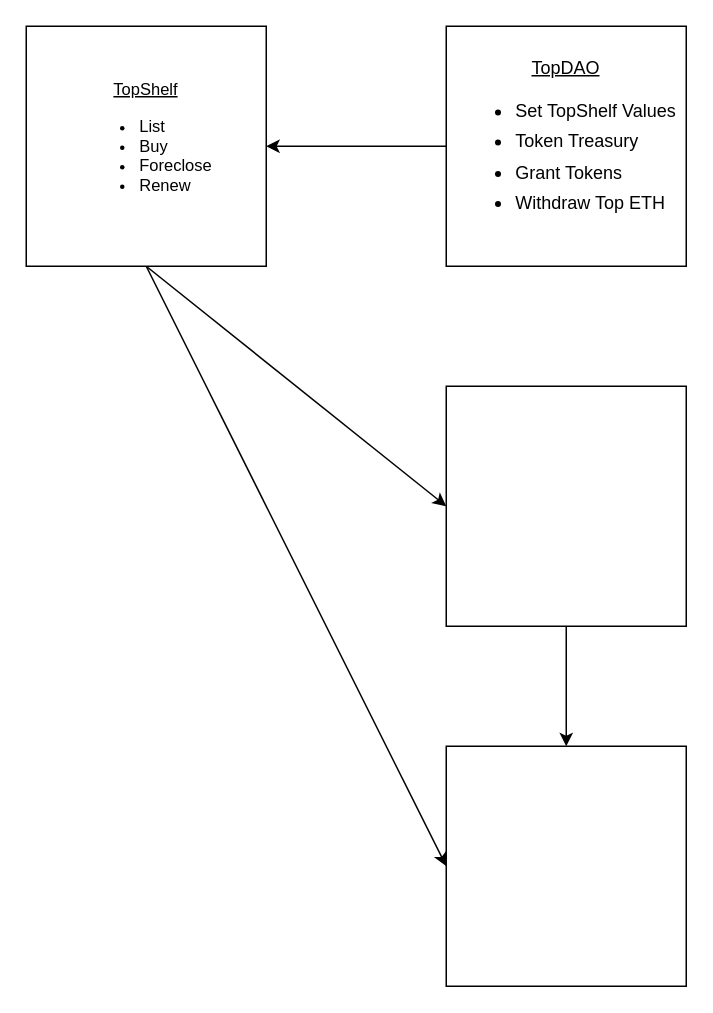
The diagram is 713 pixels wide and 1013 high, and some of its shapes have lost their labels. Each missing label, with the centre of its shape:
TopStake Add Stake Remove Stake Reward Stakers: pixel 565 505
TopToken Mint Burn Transfer Approve: pixel 565 865
